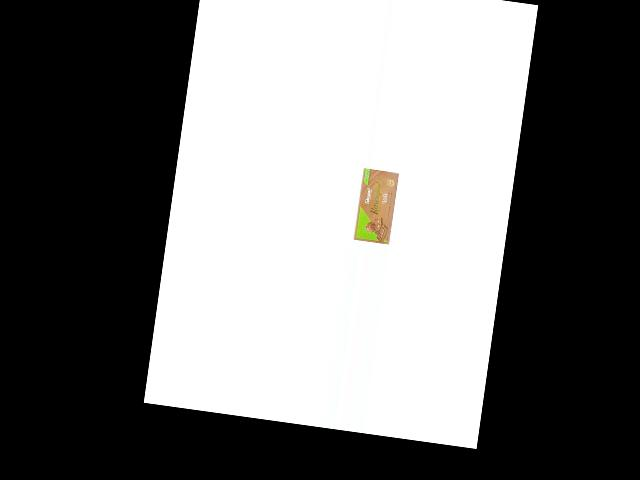chocolate: (350, 165, 400, 245)
